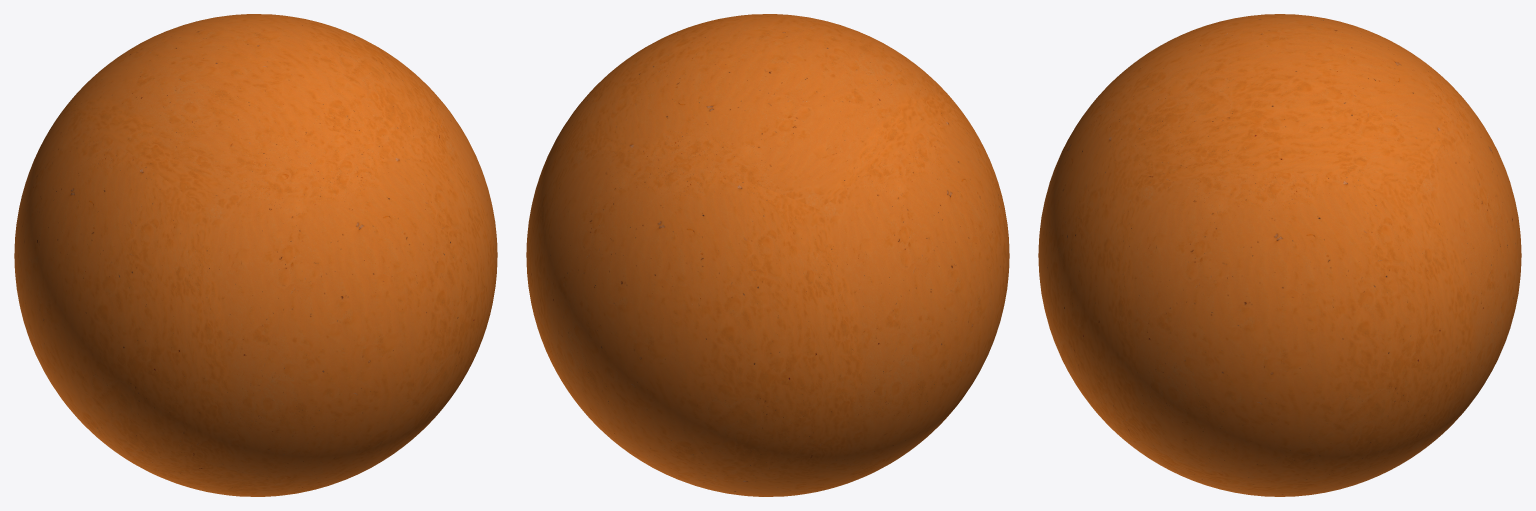
Rendered from PlanetSand.FBX.
3 views of the same model, side by side, from view 1: azimuth 30°, elevation 25°; view 2: azimuth 150°, elevation 25°; view 3: azimuth 270°, elevation 25° (orthographic).
Parts seen in each view (by area): view 1: Box001; view 2: Box001; view 3: Box001.
Boxes of the visible parts, left/top/right/bottom form: Box001: left=14, top=14, right=497, bottom=496; Box001: left=526, top=14, right=1009, bottom=496; Box001: left=1038, top=14, right=1521, bottom=496.
Bounding box in the file's own units: 50 × 50 × 50.
1 material, 1 textured.
